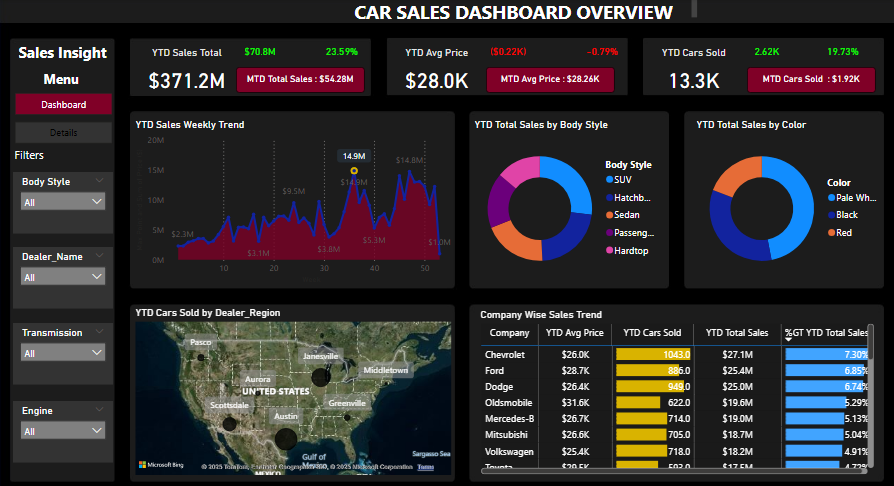

This screenshot's page, from the dashboard's own definition file:
{"tool":"powerbi","page":{"name":"Dashboard","canvas":[1280,720],"ordinal":0},"visuals":[{"type":"card","title":"YTD Sales Total","fields":{"Values":["car_data.YTD Total Sales"]},"box":[177.8,74.9,182.2,76.4],"z":0},{"type":"card","fields":{"Values":["car_data.Sales Difference"]},"box":[298.3,61.7,148.4,41.1],"z":1000},{"type":"card","fields":{"Values":["car_data.YOY Sales Growth"]},"box":[415.8,61.7,148.4,41.1],"z":2000},{"type":"card","fields":{"Values":["car_data.MTD KPI"]},"box":[338,102.9,183.7,36.7],"z":3000},{"type":"card","title":"YTD Avg Price","fields":{"Values":["car_data.YTD Avg Price"]},"box":[534.9,74.9,182.2,76.4],"z":4000},{"type":"card","fields":{"Values":["car_data.Avg Price Diff"]},"box":[652.4,61.7,148.4,41.1],"z":5000},{"type":"card","fields":{"Values":["car_data.YOY Avg Price Growth"]},"box":[787.6,61.7,148.4,41.1],"z":6000},{"type":"card","fields":{"Values":["car_data.MTD Avg Price KPI"]},"box":[695,102.9,183.7,36.7],"z":7000},{"type":"card","title":"YTD Cars Sold","fields":{"Values":["car_data.YTD Cars Sold"]},"box":[900.7,74.9,182.2,76.4],"z":8000},{"type":"card","fields":{"Values":["car_data.Cars Sold Diff"]},"box":[1022.7,61.7,148.4,41.1],"z":9000},{"type":"card","fields":{"Values":["car_data.YOY Cars Sold Growth"]},"box":[1131.4,61.7,148.4,41.1],"z":10000},{"type":"card","fields":{"Values":["car_data.MTD Cars Sold KPI"]},"box":[1068.2,102.9,183.7,36.7],"z":11000},{"type":"areaChart","title":"YTD Sales Weekly Trend","fields":{"Category":["Calendar Table.Week"],"Y":["car_data.Max Point","Sum(car_data.Price ($))"]},"box":[190,176.7,461.7,240],"z":12000},{"type":"donutChart","fields":{"Category":["car_data.Body Style"],"Y":["car_data.YTD Total Sales"]},"box":[675,176.7,276.7,240],"z":13000},{"type":"donutChart","fields":{"Y":["car_data.YTD Total Sales"],"Category":["car_data.Color"]},"box":[991.7,176.7,276.7,240],"z":14000},{"type":"map","fields":{"Category":["car_data.Dealer_Region"],"Size":["car_data.YTD Cars Sold"]},"box":[189.6,445.2,461.4,245.4],"z":15000},{"type":"tableEx","title":"Company Wise Sales Trend","fields":{"Values":["car_data.Company","car_data.YTD Avg Price","car_data.YTD Cars Sold","car_data.YTD Total Sales1","car_data.YTD Total Sales"]},"box":[683.3,448.2,571.6,241],"z":16000},{"type":"textbox","box":[474.6,0,527.5,41.1],"z":17000},{"type":"slicer","fields":{"Values":["car_data.Body Style"]},"box":[20.6,252.7,142.5,88.2],"z":17001},{"type":"slicer","fields":{"Values":["car_data.Dealer_Name"]},"box":[20.6,360,142.5,88.2],"z":17002},{"type":"slicer","fields":{"Values":["car_data.Engine"]},"box":[20.6,580.4,142.5,88.2],"z":17003},{"type":"slicer","fields":{"Values":["car_data.Transmission"]},"box":[20.6,468.7,142.5,88.2],"z":17004},{"type":"textbox","box":[17.6,213.1,116.1,39.7],"z":17005},{"type":"textbox","box":[23.5,61.7,149.9,41.1],"z":17006},{"type":"textbox","box":[58.8,101.4,149.9,41.1],"z":17007},{"type":"pageNavigator","box":[23.5,139.6,139.6,73.5],"z":17008}]}

Visuals, with their boxes on the page's 1280x720 design canvas (x1, y1, x2, y2). These are canvas units, not pixel positions in the 894x486 screenshot, which may show the page scaled, cropped or inside an application window:
"YTD Sales Total" card: pyautogui.locateOnScreen(178, 75, 360, 151)
card - car_data.Sales Difference: pyautogui.locateOnScreen(298, 62, 447, 103)
card - car_data.YOY Sales Growth: pyautogui.locateOnScreen(416, 62, 564, 103)
card - car_data.MTD KPI: pyautogui.locateOnScreen(338, 103, 522, 140)
"YTD Avg Price" card: pyautogui.locateOnScreen(535, 75, 717, 151)
card - car_data.Avg Price Diff: pyautogui.locateOnScreen(652, 62, 801, 103)
card - car_data.YOY Avg Price Growth: pyautogui.locateOnScreen(788, 62, 936, 103)
card - car_data.MTD Avg Price KPI: pyautogui.locateOnScreen(695, 103, 879, 140)
"YTD Cars Sold" card: pyautogui.locateOnScreen(901, 75, 1083, 151)
card - car_data.Cars Sold Diff: pyautogui.locateOnScreen(1023, 62, 1171, 103)
card - car_data.YOY Cars Sold Growth: pyautogui.locateOnScreen(1131, 62, 1280, 103)
card - car_data.MTD Cars Sold KPI: pyautogui.locateOnScreen(1068, 103, 1252, 140)
"YTD Sales Weekly Trend" areaChart: pyautogui.locateOnScreen(190, 177, 652, 417)
donutChart - car_data.Body Style x car_data.YTD Total Sales: pyautogui.locateOnScreen(675, 177, 952, 417)
donutChart - car_data.YTD Total Sales x car_data.Color: pyautogui.locateOnScreen(992, 177, 1268, 417)
map - car_data.Dealer_Region x car_data.YTD Cars Sold: pyautogui.locateOnScreen(190, 445, 651, 691)
"Company Wise Sales Trend" tableEx: pyautogui.locateOnScreen(683, 448, 1255, 689)
textbox: pyautogui.locateOnScreen(475, 0, 1002, 41)
slicer - car_data.Body Style: pyautogui.locateOnScreen(21, 253, 163, 341)
slicer - car_data.Dealer_Name: pyautogui.locateOnScreen(21, 360, 163, 448)
slicer - car_data.Engine: pyautogui.locateOnScreen(21, 580, 163, 669)
slicer - car_data.Transmission: pyautogui.locateOnScreen(21, 469, 163, 557)
textbox: pyautogui.locateOnScreen(18, 213, 134, 253)
textbox: pyautogui.locateOnScreen(24, 62, 173, 103)
textbox: pyautogui.locateOnScreen(59, 101, 209, 142)
pageNavigator: pyautogui.locateOnScreen(24, 140, 163, 213)
